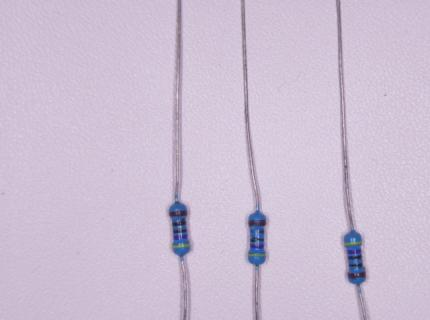Black band: (348, 254, 362, 259), (173, 221, 186, 226), (349, 262, 362, 267), (173, 229, 187, 233), (250, 238, 264, 242), (250, 230, 264, 233)
Brown band: (349, 270, 366, 278), (169, 210, 187, 216), (249, 220, 266, 226)
Violet band: (174, 234, 188, 240), (348, 249, 361, 254), (250, 244, 264, 248)
Yellow band: (344, 240, 362, 245), (172, 243, 190, 248), (248, 253, 266, 256)
